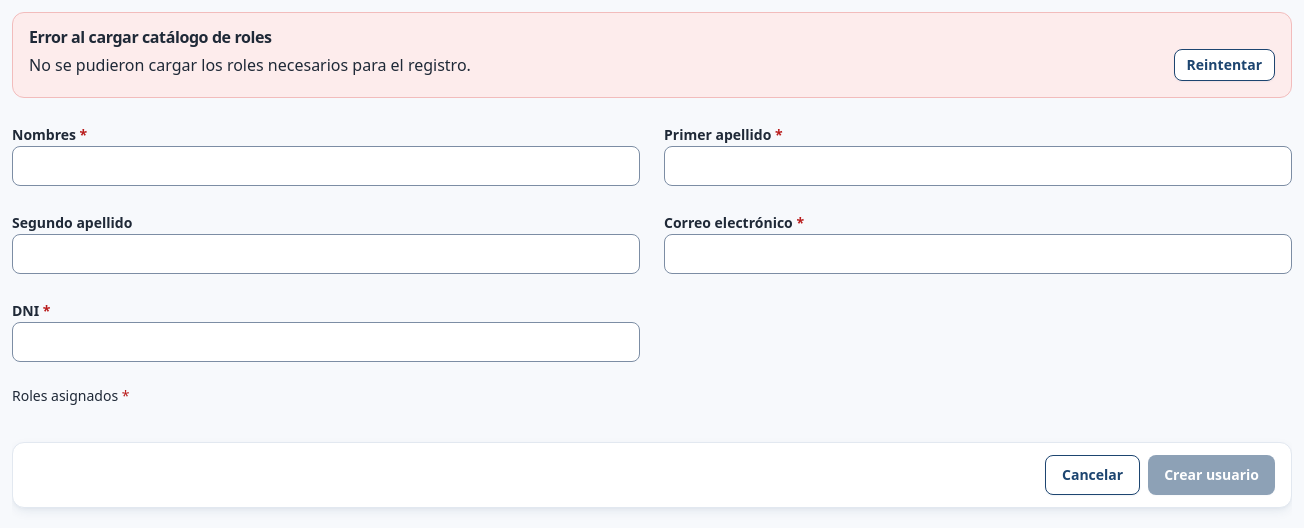
Test case: UserForm component (T-003-27) › disables creation when roles fail to load and offers retry
Expected: the heading "Error al cargar catálogo de roles" is shown, [29,26,272,48]
Expected: the button "Crear usuario" is disabled, [1148,455,1275,495]
Reintentar carga de roles
Click the button "Reintentar": (1224, 65) [1174,49,1275,81]
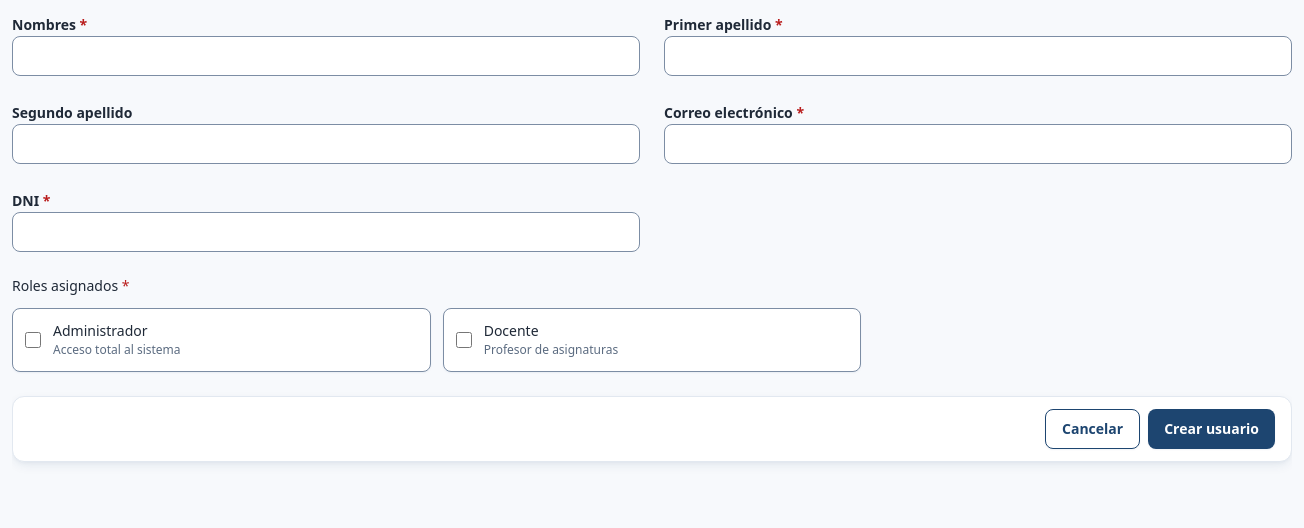
Now the text "Administrador" is shown, box [53,321,148,340]
Now the button "Crear usuario" is enabled, box [1148,409,1275,449]
